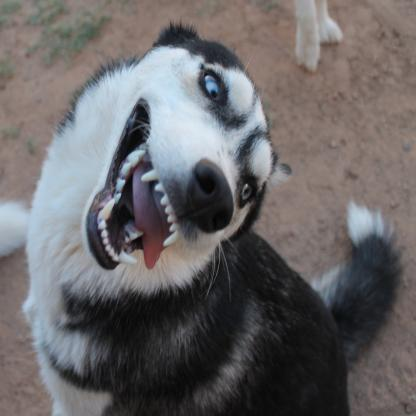husky: (0, 22, 395, 415)
